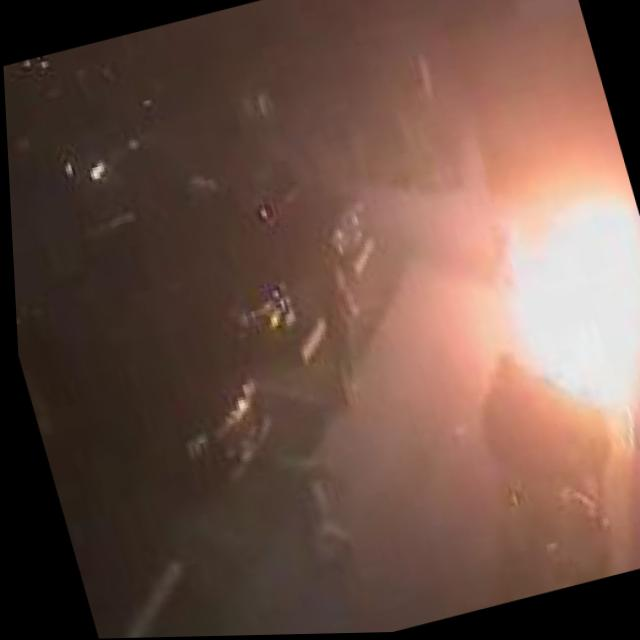fire: (457, 185, 640, 455)
